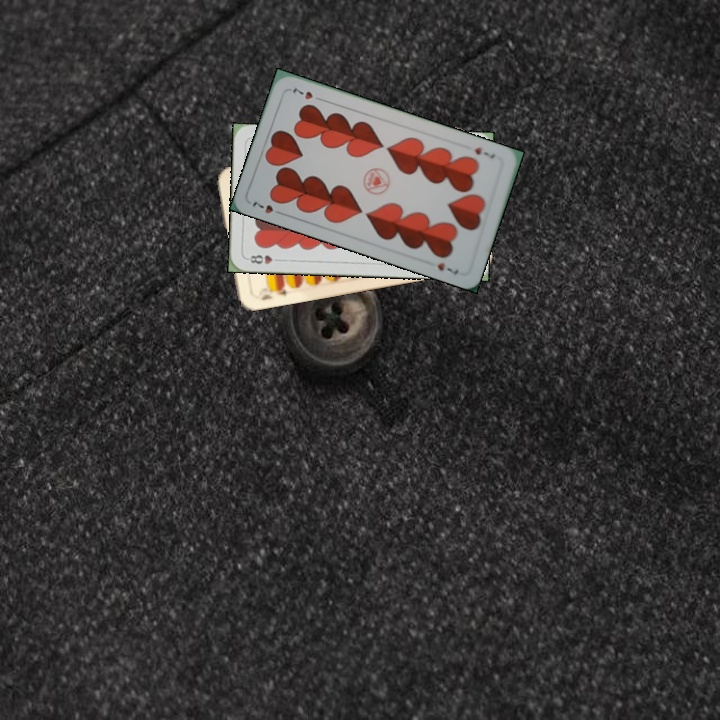E10: (257, 281, 289, 303)
H7: (248, 197, 287, 218), (471, 143, 497, 161)
H8: (243, 251, 284, 266)
